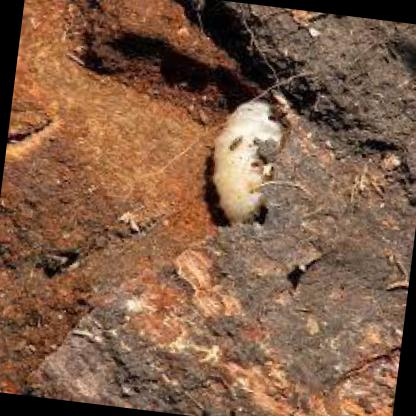root grubs: (214, 99, 286, 221)
